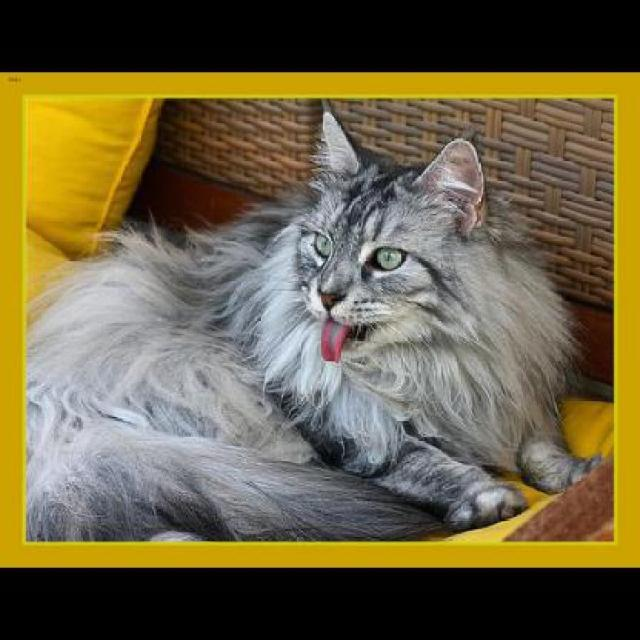unauthorized: (23, 108, 606, 542)
